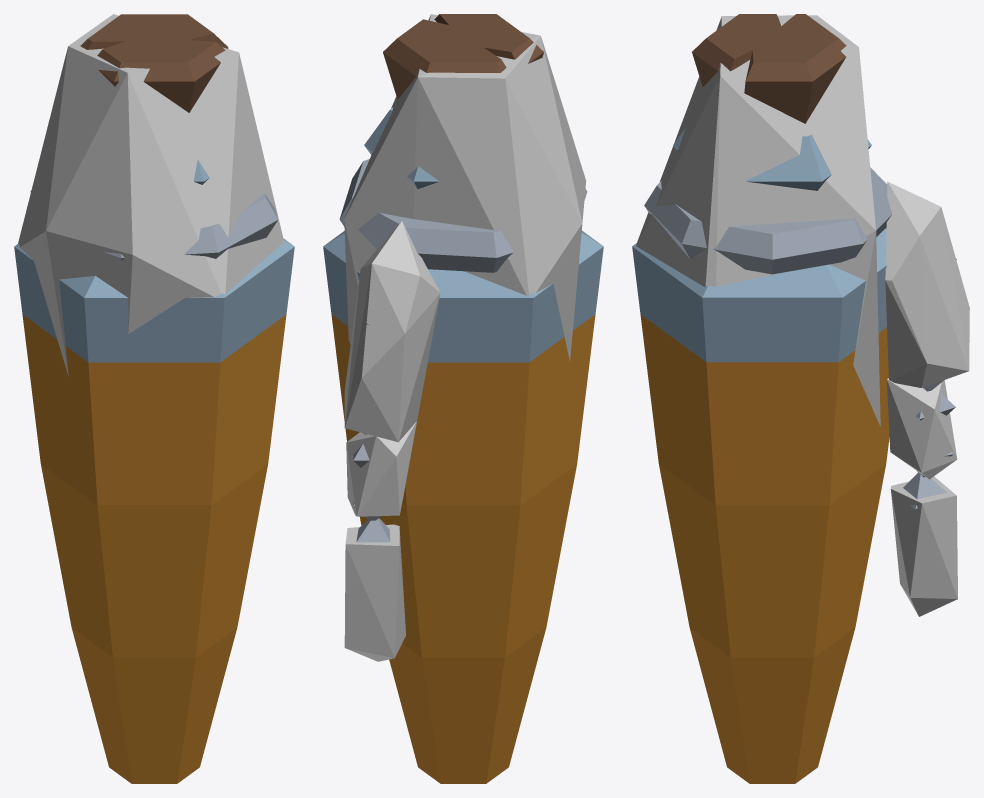
File: SM_Item_Elixir_06.fbx
The picture shows the model from 3 angles, left to right: view 1: azimuth 30°, elevation 25°; view 2: azimuth 150°, elevation 25°; view 3: azimuth 270°, elevation 25°; orthographic projection.
Visible parts, largest first — view 1: SM_Item_Elixir_06, SM_Item_Elixir_06_ConvexHulls; view 2: SM_Item_Elixir_06, SM_Item_Elixir_06_ConvexHulls; view 3: SM_Item_Elixir_06, SM_Item_Elixir_06_ConvexHulls.
Part boxes in pixels (left/top/right/bottom): SM_Item_Elixir_06: left=14, top=14, right=294, bottom=783; SM_Item_Elixir_06_ConvexHulls: left=18, top=14, right=284, bottom=377; SM_Item_Elixir_06: left=323, top=14, right=603, bottom=783; SM_Item_Elixir_06_ConvexHulls: left=344, top=14, right=586, bottom=661; SM_Item_Elixir_06: left=632, top=14, right=956, bottom=783; SM_Item_Elixir_06_ConvexHulls: left=636, top=15, right=969, bottom=616.
Size of the model in its own units: 8.85 by 11.51 by 27.41.
2 materials, 1 textured.
